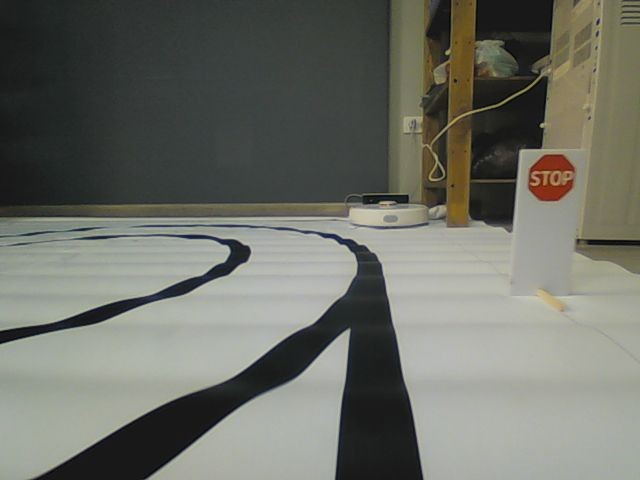Stop: (527, 152, 576, 203)
